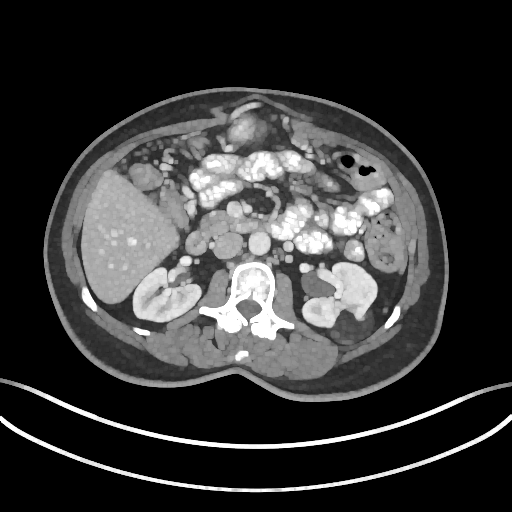Lesion: (331, 304, 377, 348)
